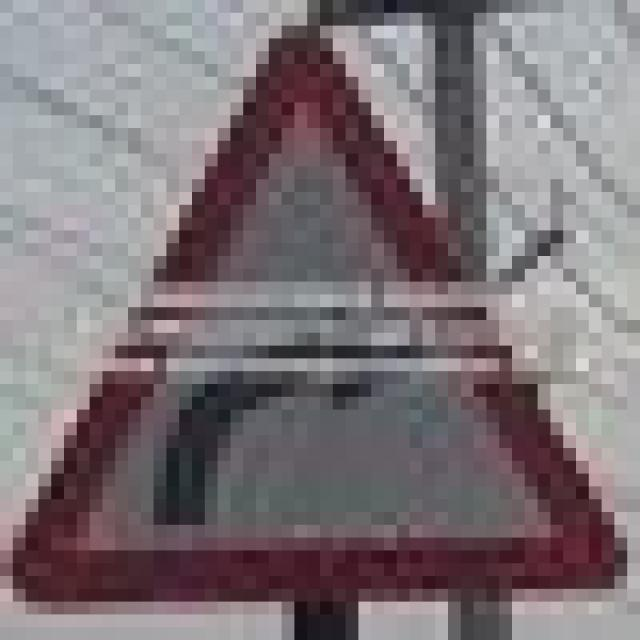RIGHT_HAND_CURVE: (0, 13, 627, 589)
